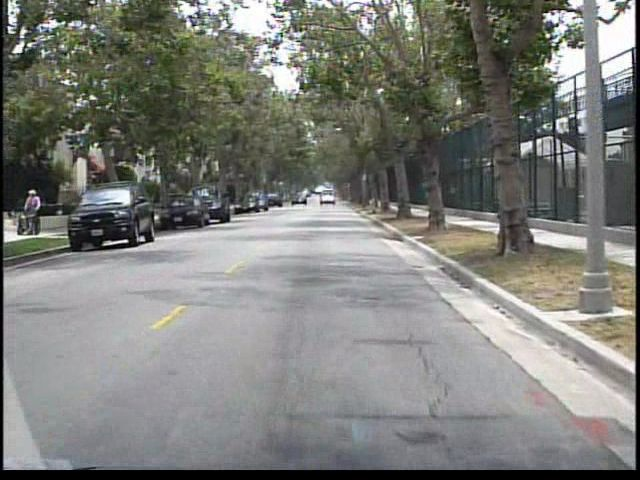person: (26, 187, 46, 236)
